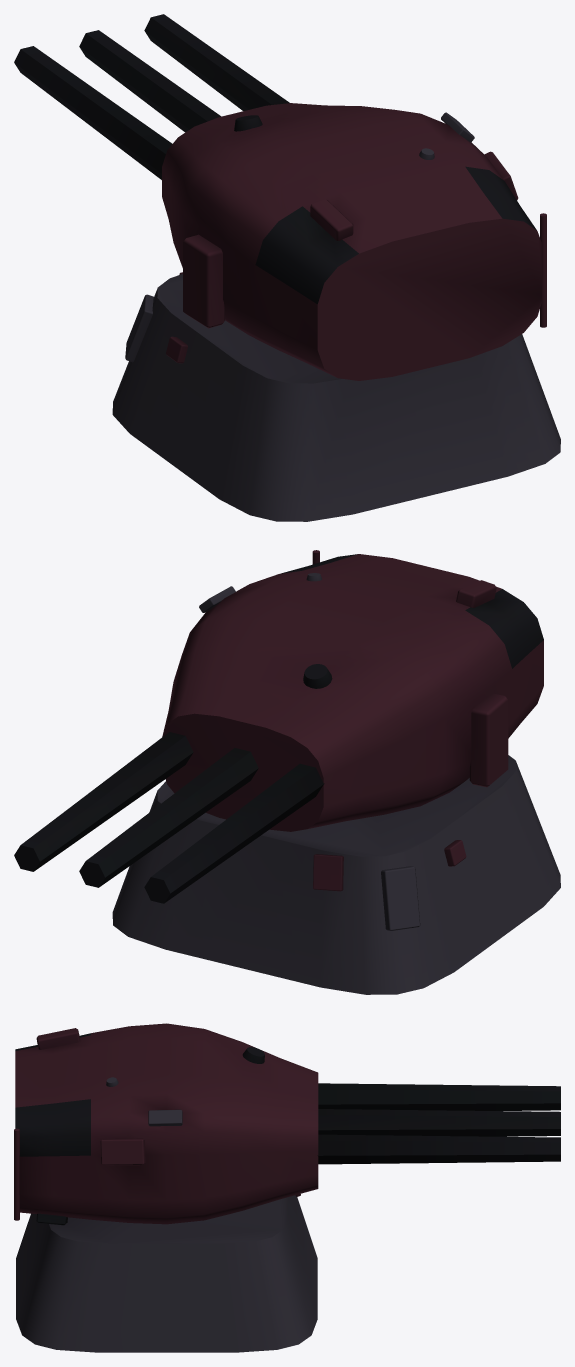
File: stationTurret-transformed.glb
3 renders of one model, top to bottom at view 1: azimuth 30°, elevation 25°; view 2: azimuth 150°, elevation 25°; view 3: azimuth 270°, elevation 25°, orthographic. The views are drawn at different scales.
Visible parts, largest first — view 1: stationTurret; view 2: stationTurret; view 3: stationTurret.
Boxes of the visible parts, <box> form: stationTurret: <box>14,14,560,521</box>; stationTurret: <box>14,550,560,994</box>; stationTurret: <box>14,1023,560,1352</box>.
Size of the model in its own units: 49.63 by 42.3 by 90.
